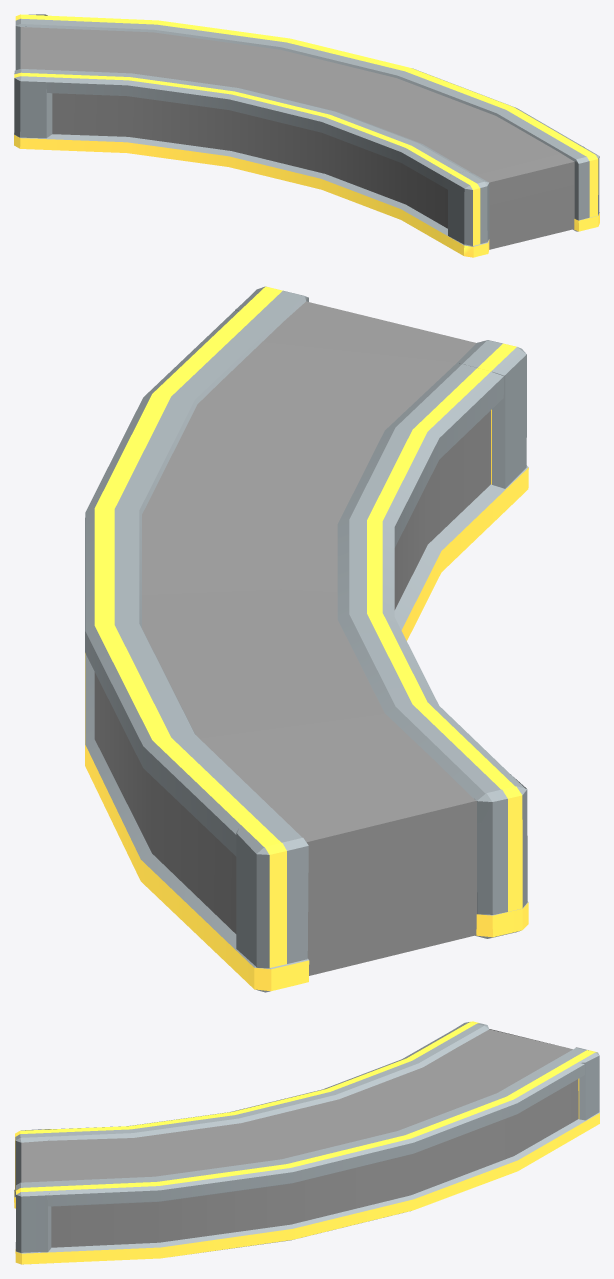
Rendered from SM_60DegreeLonger_v1_1.fbx.
3 renders of one model, top to bottom at view 1: azimuth 30°, elevation 25°; view 2: azimuth 150°, elevation 25°; view 3: azimuth 270°, elevation 25°, orthographic. The views are drawn at different scales.
Parts seen in each view (by area): view 1: SM_60DegLonger_HologramMain_v1_1, SM_60DegLonger_MainStructure_v1_1, SM_60DegLonger_HologramInner_v1_1, SM_60DegLonger_InnerStruct_v1_1, SM_60DegLonger_HologramLower_v1_1, SM_60DegLonger_LowerStructure_v1_1, SM_60DegLonger_UpperStruct_v1_1, SM_60DegLonger_HologramMainLower_v1_1; view 2: SM_60DegLonger_HologramMain_v1_1, SM_60DegLonger_MainStructure_v1_1, SM_60DegLonger_HologramUpper_v1_1, SM_60DegLonger_UpperStruct_v1_1, SM_60DegLonger_HologramOuter_v1_1, SM_60DegLonger_OuterStruct_v1_1, SM_60DegLonger_HologramInner_v1_1, SM_60DegLonger_InnerStruct_v1_1, SM_60DegLonger_LowerStructure_v1_1, SM_60DegLonger_HologramMainUpper_v1_1; view 3: SM_60DegLonger_HologramMain_v1_1, SM_60DegLonger_MainStructure_v1_1, SM_60DegLonger_HologramOuter_v1_1, SM_60DegLonger_OuterStruct_v1_1, SM_60DegLonger_LowerStructure_v1_1, SM_60DegLonger_UpperStruct_v1_1.
Boxes of the visible parts, x1,y1,x2,y2 form: SM_60DegLonger_HologramMain_v1_1: [20, 27, 573, 182]; SM_60DegLonger_MainStructure_v1_1: [20, 14, 597, 196]; SM_60DegLonger_HologramInner_v1_1: [52, 93, 447, 228]; SM_60DegLonger_InnerStruct_v1_1: [14, 133, 489, 257]; SM_60DegLonger_HologramLower_v1_1: [489, 173, 574, 249]; SM_60DegLonger_LowerStructure_v1_1: [448, 145, 599, 245]; SM_60DegLonger_UpperStruct_v1_1: [14, 14, 52, 138]; SM_60DegLonger_HologramMainLower_v1_1: [489, 162, 574, 193]; SM_60DegLonger_HologramMain_v1_1: [142, 301, 476, 841]; SM_60DegLonger_MainStructure_v1_1: [85, 286, 526, 856]; SM_60DegLonger_HologramUpper_v1_1: [307, 801, 476, 975]; SM_60DegLonger_UpperStruct_v1_1: [236, 774, 527, 968]; SM_60DegLonger_HologramOuter_v1_1: [94, 672, 236, 933]; SM_60DegLonger_OuterStruct_v1_1: [85, 653, 309, 992]; SM_60DegLonger_HologramInner_v1_1: [394, 410, 490, 609]; SM_60DegLonger_InnerStruct_v1_1: [394, 465, 528, 938]; SM_60DegLonger_LowerStructure_v1_1: [235, 286, 526, 488]; SM_60DegLonger_HologramMainUpper_v1_1: [310, 801, 476, 841]; SM_60DegLonger_HologramMain_v1_1: [21, 1029, 572, 1182]; SM_60DegLonger_MainStructure_v1_1: [15, 1022, 598, 1206]; SM_60DegLonger_HologramOuter_v1_1: [51, 1079, 578, 1247]; SM_60DegLonger_OuterStruct_v1_1: [15, 1112, 599, 1264]; SM_60DegLonger_LowerStructure_v1_1: [15, 1129, 51, 1252]; SM_60DegLonger_UpperStruct_v1_1: [457, 1021, 599, 1120].
Size of what is drawn, in the model's own units: 5.6 by 1.09 by 7.89.
